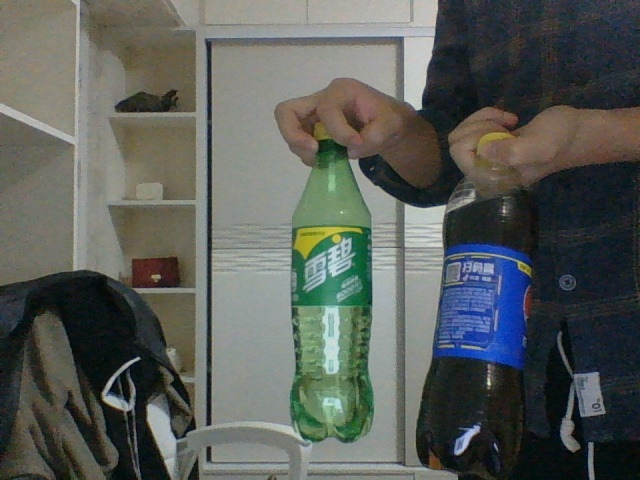Cola: (415, 133, 538, 472)
Sprite: (290, 122, 374, 444)
